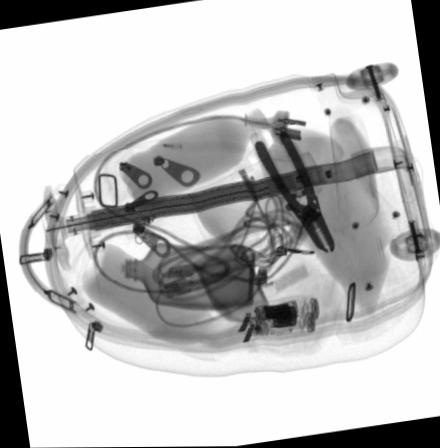Pliers: (253, 127, 334, 253)
